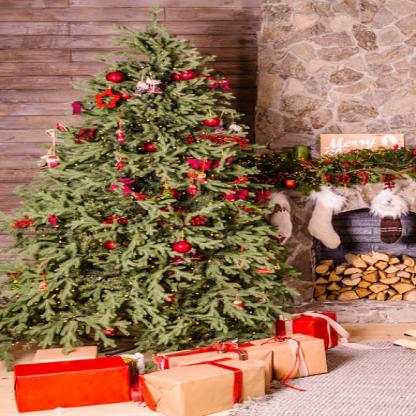present: (120, 363, 285, 415), (16, 356, 147, 415), (150, 342, 317, 374), (251, 319, 334, 371), (267, 307, 356, 351)
x_mas tree: (3, 0, 313, 345)
